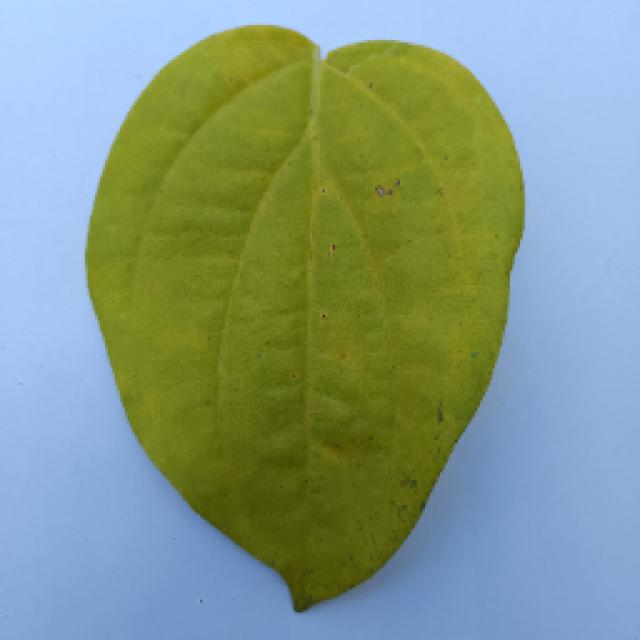slow-decline: (65, 37, 557, 615)
